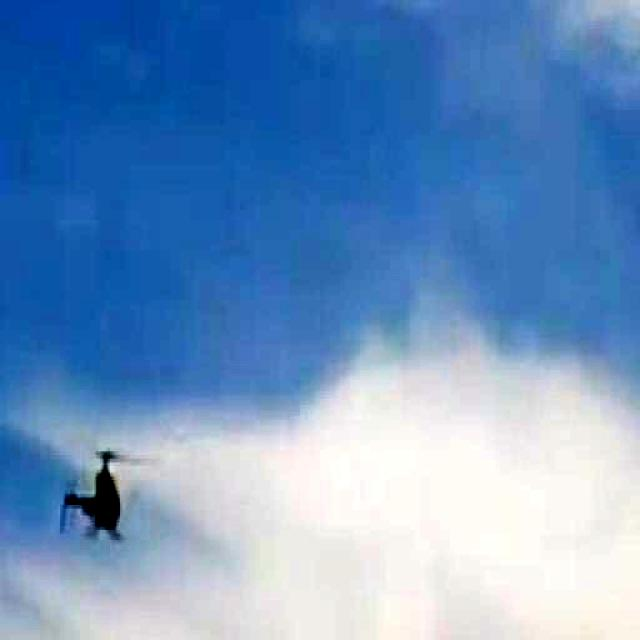drone: (54, 430, 161, 548)
